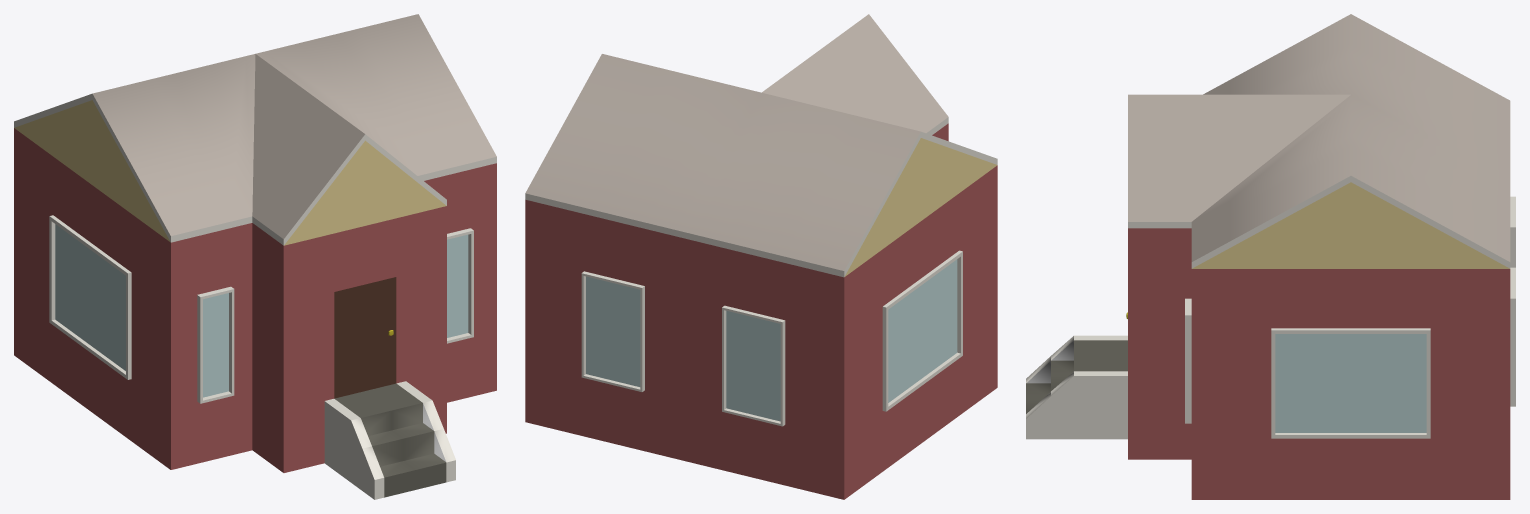
The model's file is house.fbx.
The picture shows the model from 3 angles, left to right: view 1: azimuth 30°, elevation 25°; view 2: azimuth 150°, elevation 25°; view 3: azimuth 270°, elevation 25°; orthographic projection. The views are drawn at different scales.
Visible parts, largest first — view 1: house; view 2: house; view 3: house.
Part boxes in pixels (x1,y1,x2,y2): house: [14, 14, 496, 499]; house: [525, 14, 997, 499]; house: [1026, 14, 1515, 499].
Bounding box in the file's own units: 614 × 561 × 768.
